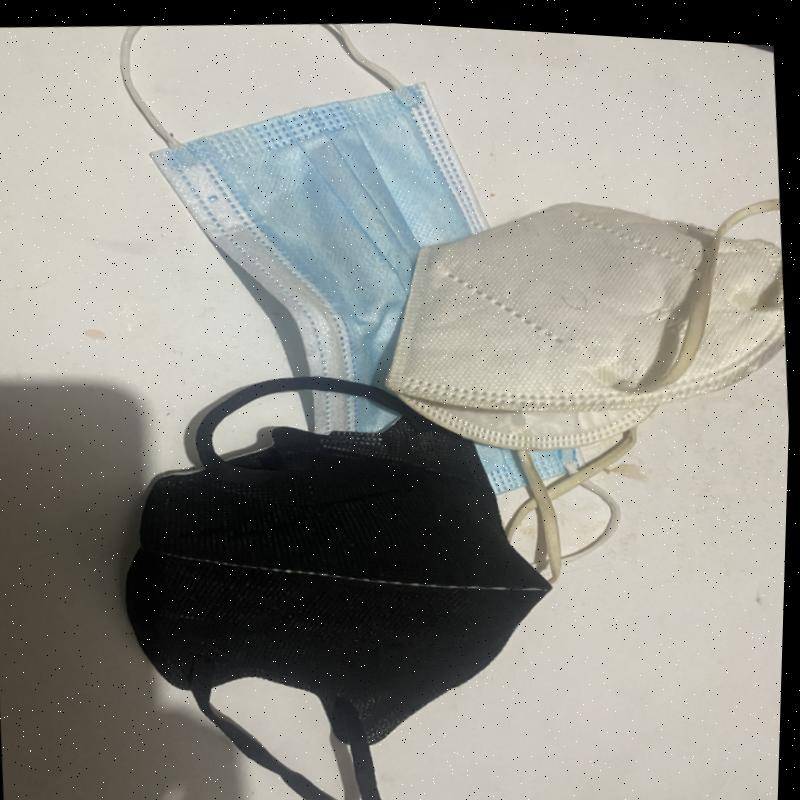facemask: (124, 377, 554, 800), (384, 199, 785, 584), (119, 24, 490, 390), (311, 390, 399, 437)
